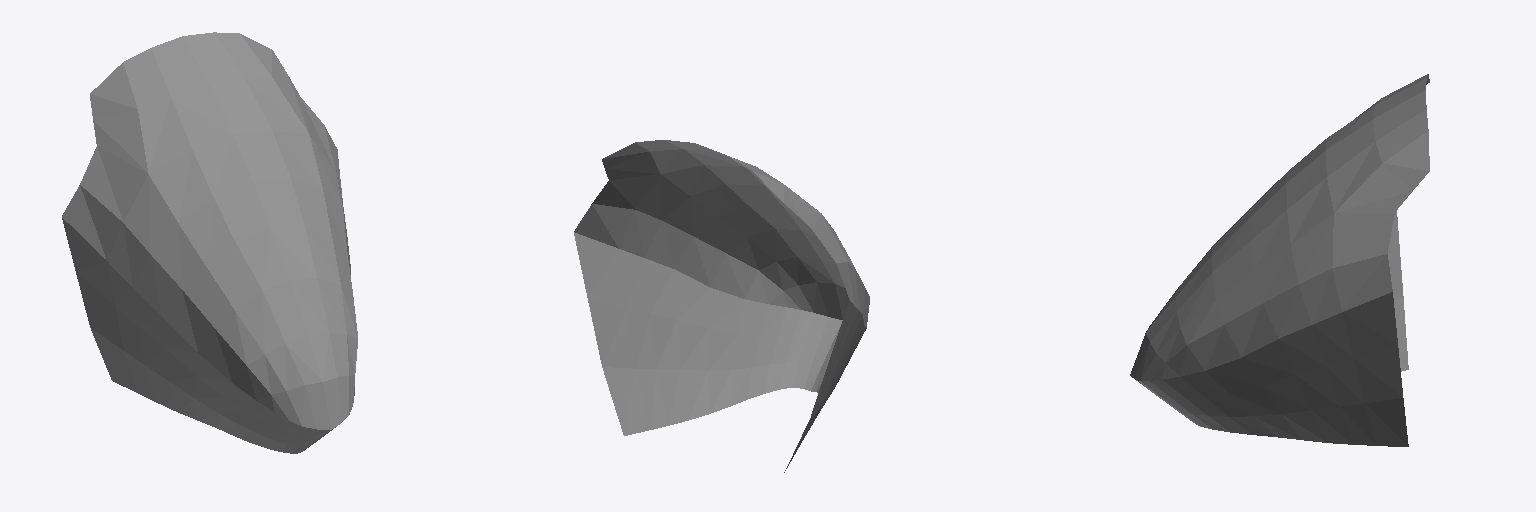
File: charHavoc_head.obj
3 renders of one model, left to right at view 1: azimuth 30°, elevation 25°; view 2: azimuth 150°, elevation 25°; view 3: azimuth 270°, elevation 25°, orthographic.
Parts seen in each view (by area): view 1: Plane001; view 2: Plane001; view 3: Plane001.
Boxes of the visible parts, <box> form: Plane001: <box>62,32,357,453</box>; Plane001: <box>574,140,869,472</box>; Plane001: <box>1130,74,1429,446</box>.
Size of the model in its own units: 23.69 by 27.31 by 22.31.